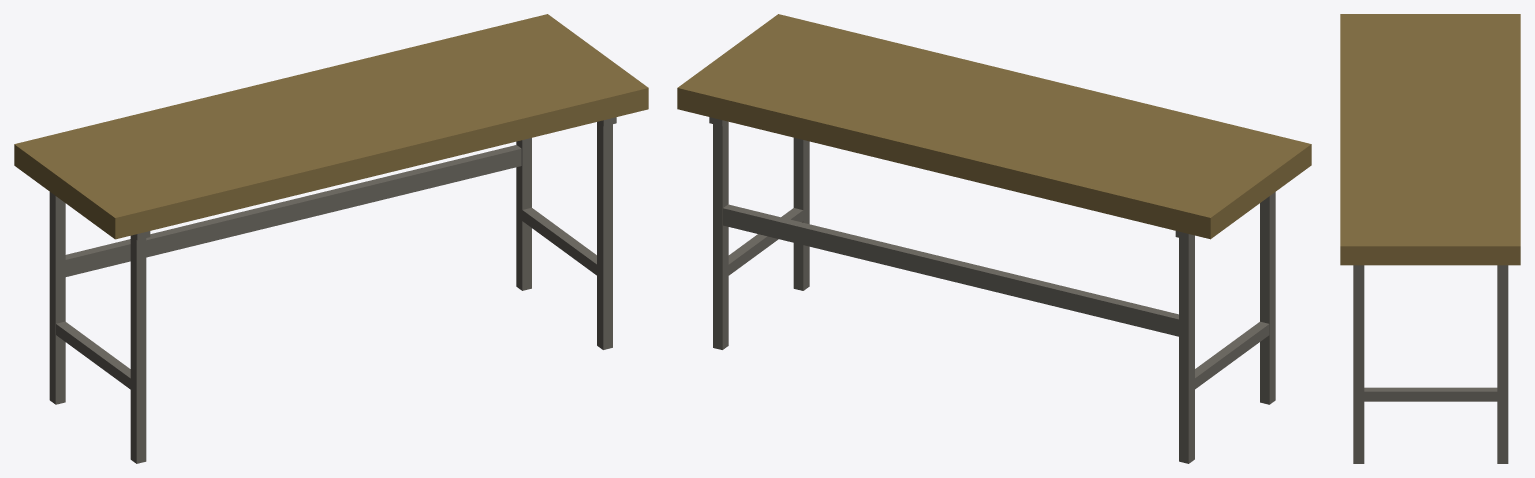
Rendered from Workbench.fbx.
3 renders of one model, left to right at view 1: azimuth 30°, elevation 25°; view 2: azimuth 150°, elevation 25°; view 3: azimuth 270°, elevation 25°, orthographic. The views are drawn at different scales.
Visible parts, largest first — view 1: Workbench; view 2: Workbench; view 3: Workbench.
Part boxes in pixels (box(x1,y1,x2,y2)): Workbench: box(14, 14, 648, 463); Workbench: box(677, 14, 1311, 463); Workbench: box(1340, 14, 1520, 463).
Bounding box in the file's own units: 183 × 84.6 × 60.
2 materials, 2 textured.
